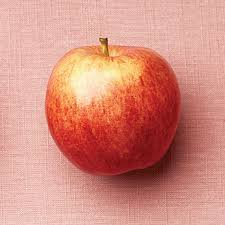apple: (44, 38, 183, 179)
